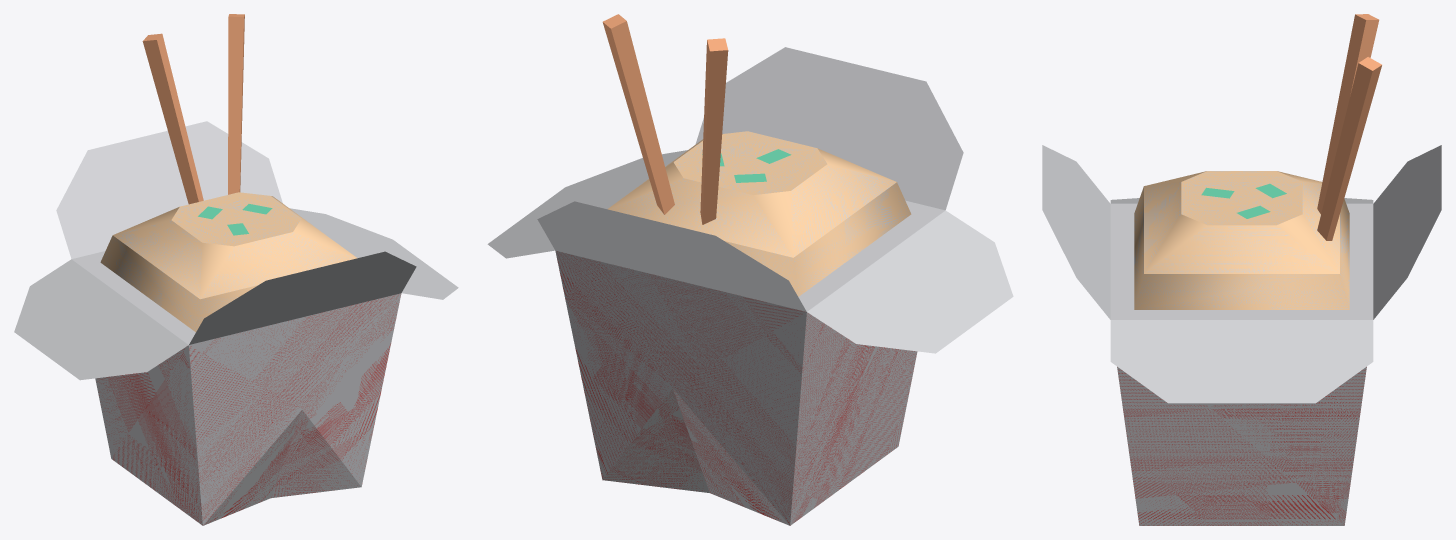
The model's file is chinese.dae.
3 renders of one model, left to right at view 1: azimuth 30°, elevation 25°; view 2: azimuth 150°, elevation 25°; view 3: azimuth 270°, elevation 25°, orthographic. The views are drawn at different scales.
Parts seen in each view (by area): view 1: chinese, chopstick (×2); view 2: chinese, chopstick (×2); view 3: chinese, chopstick (×2).
Boxes of the visible parts, x1,y1,x2,y2 form: chinese: (14, 121, 458, 525); chopstick (×2): (142, 14, 244, 204); chinese: (487, 47, 1013, 525); chopstick (×2): (602, 14, 728, 224); chinese: (1042, 145, 1441, 525); chopstick (×2): (1317, 14, 1381, 240).
Bounding box in the file's own units: 0.5575 × 0.5671 × 0.4539.
